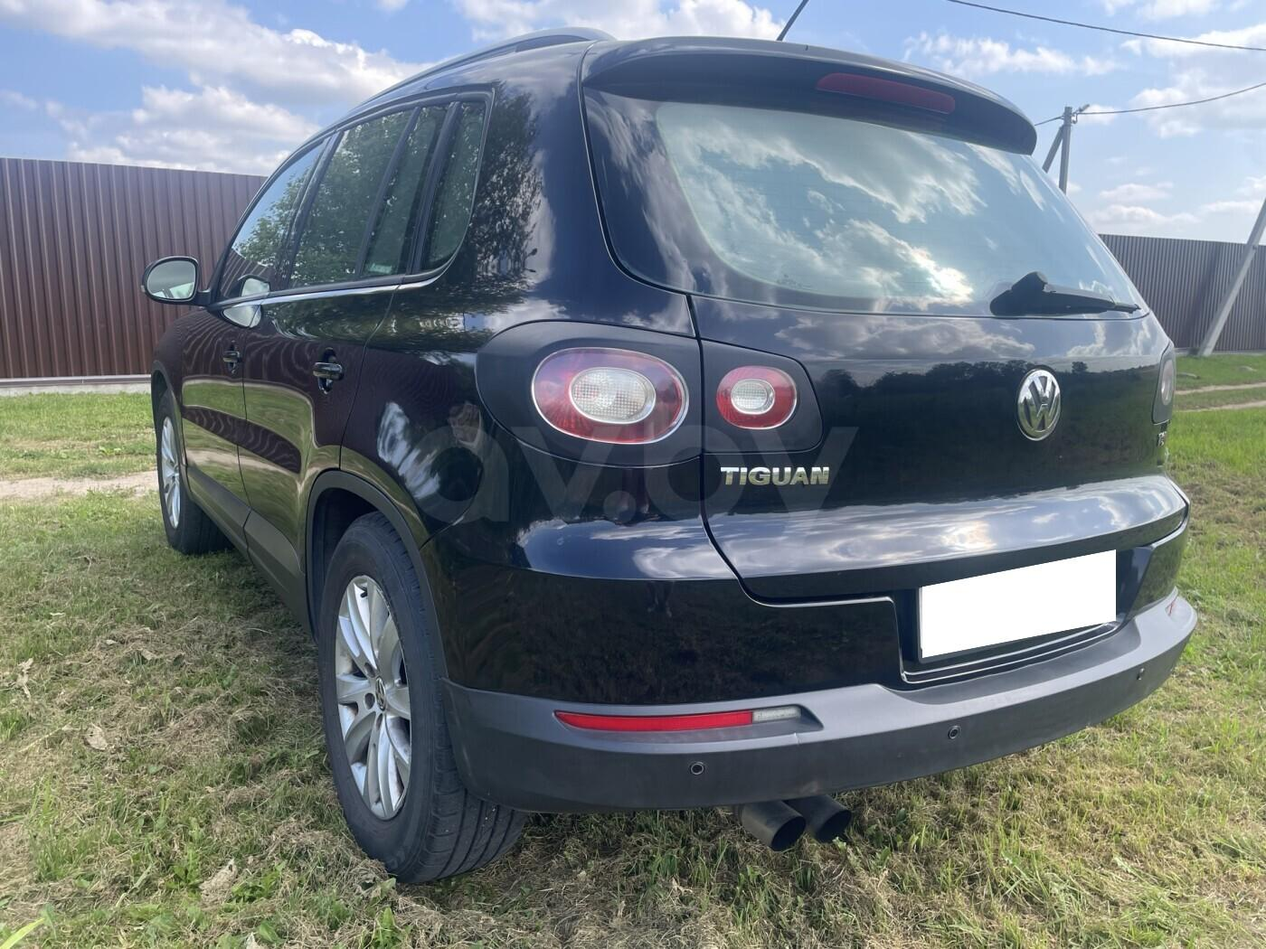Tiguan_2007-2011: (137, 32, 1199, 878)
